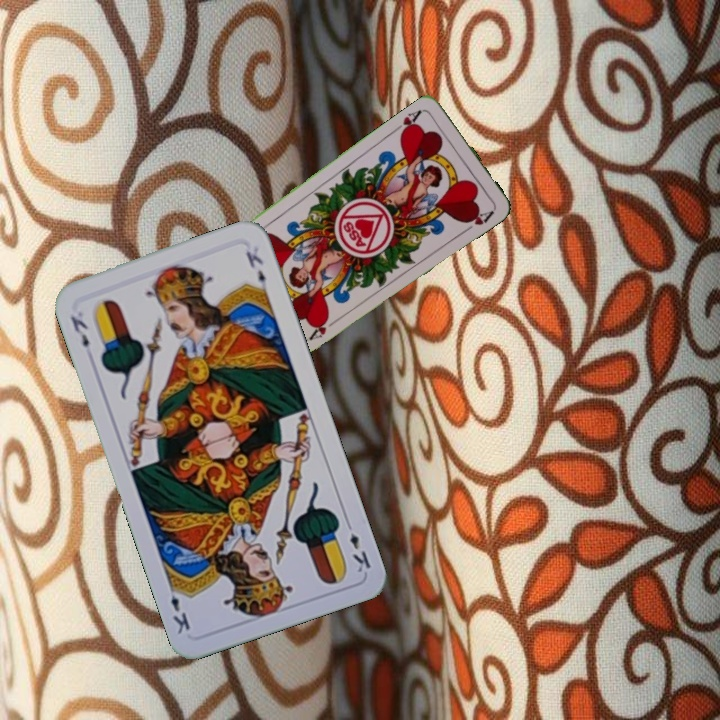EK: (341, 516, 374, 575), (66, 311, 92, 350)
HA: (391, 106, 427, 139), (306, 313, 342, 342)
